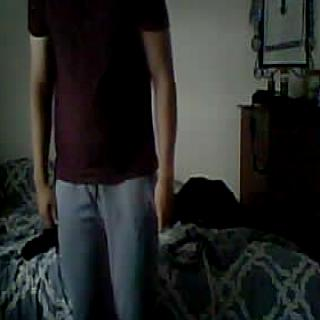Blue Sweatpants: (56, 177, 157, 320)
Maroon T-Shirt: (36, 0, 159, 171)
